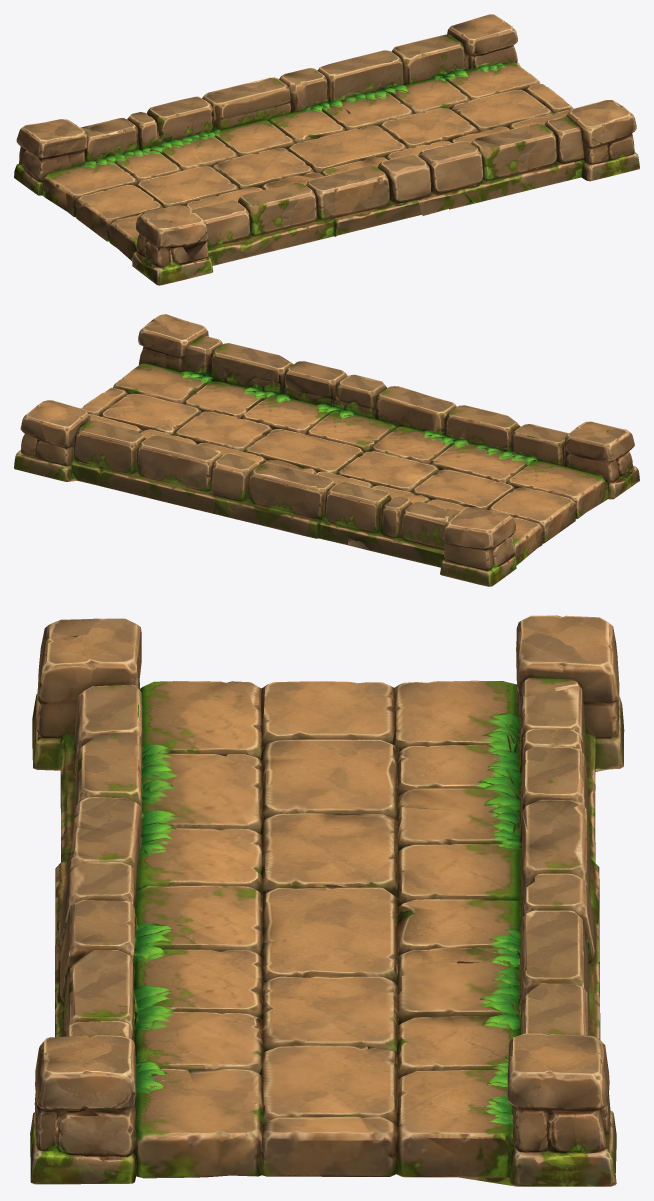
The model's file is Bridge.rt.glb.
3 views of the same model, one above another, from view 1: azimuth 30°, elevation 25°; view 2: azimuth 150°, elevation 25°; view 3: azimuth 270°, elevation 25° (orthographic). The views are drawn at different scales.
Parts seen in each view (by area): view 1: output_unwrapped; view 2: output_unwrapped; view 3: output_unwrapped.
Part boxes in pixels (bbox=[...]): output_unwrapped: bbox=[14, 14, 639, 285]; output_unwrapped: bbox=[14, 314, 639, 586]; output_unwrapped: bbox=[30, 615, 624, 1186].
Bounding box in the file's own units: 1.9 × 0.2007 × 1.01.
1 material, 1 textured.
